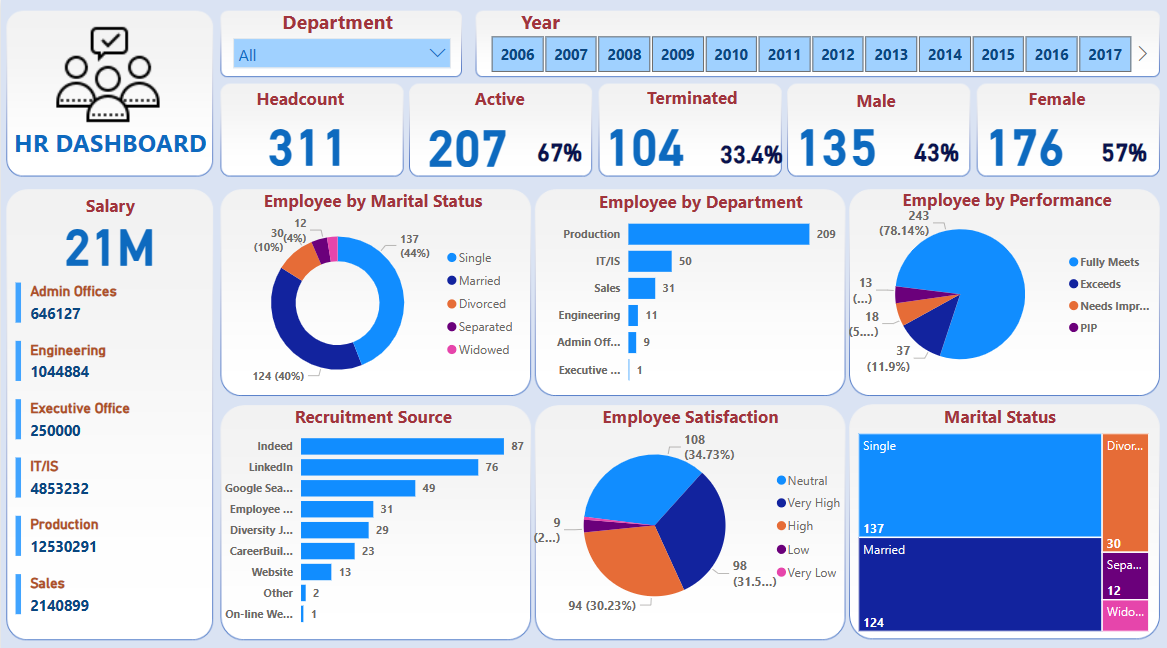

The page's visual inventory and layout, read from the dashboard file:
{"tool":"powerbi","page":{"name":"Page 1","canvas":[1280,720],"ordinal":0},"visuals":[{"type":"textbox","box":[0,134.3,240,64.3],"z":0},{"type":"textbox","box":[0,208,240,48],"z":1000},{"type":"textbox","box":[240,202.9,335.7,47.1],"z":2000},{"type":"textbox","box":[591.4,204.3,352.9,47.1],"z":3000},{"type":"textbox","box":[928.6,201.4,351.4,47.1],"z":4000},{"type":"textbox","box":[288.6,440,240,47.1],"z":5000},{"type":"textbox","box":[588.6,440,337.1,47.1],"z":6000},{"type":"textbox","box":[928.6,440,335.7,47.1],"z":7000},{"type":"textbox","box":[208.6,91.4,240,48.6],"z":8000},{"type":"textbox","box":[428.6,91.4,238.6,48.6],"z":9000},{"type":"textbox","box":[638.6,90,240,48.6],"z":10000},{"type":"textbox","box":[840,92.9,241.4,48.6],"z":11000},{"type":"textbox","box":[1038.6,91.4,241.4,48.6],"z":12000},{"type":"textbox","box":[265.6,4.4,207.8,47.8],"z":13000},{"type":"textbox","box":[495.6,4.4,192.2,47.8],"z":14000},{"type":"image","box":[11.1,16.7,216.7,135.6],"z":15000},{"type":"slicer","fields":{"Values":["HRData.Department"]},"box":[244.4,33.3,258.9,51.1],"z":16000},{"type":"slicer","fields":{"Values":["HRData.HiringDate.Variation.Date Hierarchy.Year"]},"box":[512.9,34.3,751.4,52.9],"z":17000},{"type":"donutChart","fields":{"Y":["CountNonNull(HRData.EmployeeID)"],"Category":["HRData.MaritalStatus"]},"box":[244.3,220,331.4,228.6],"z":18000},{"type":"clusteredBarChart","fields":{"Y":["CountNonNull(HRData.EmployeeID)"],"Category":["HRData.Department"]},"box":[591.4,221.4,335.7,214.3],"z":19000},{"type":"clusteredBarChart","fields":{"Y":["CountNonNull(HRData.EmployeeID)"],"Category":["HRData.RecruitmentSource"]},"box":[228.6,460,351.4,238.6],"z":20000},{"type":"card","fields":{"Values":["CountNonNull(HRData.EmployeeID)"]},"box":[244.7,105.3,183.9,102.3],"z":21000},{"type":"card","fields":{"Values":["Sum(HRData.Salary)"]},"box":[48.9,213.6,139.4,103.8],"z":22000},{"type":"multiRowCard","fields":{"Values":["HRData.Department","Sum(HRData.Salary)"]},"box":[11.4,305.7,222.9,402.9],"z":23000},{"type":"pieChart","fields":{"Y":["CountNonNull(HRData.EmployeeID)"],"Category":["HRData.PerformanceScore"]},"box":[928.6,214.3,351.4,220],"z":24000},{"type":"pieChart","fields":{"Y":["CountNonNull(HRData.EmployeeID)"],"Category":["HRData.SatisfactionIndex"]},"box":[580,460,355.7,235.7],"z":25000},{"type":"treemap","fields":{"Group":["HRData.MaritalStatus"],"Values":["CountNonNull(HRData.EmployeeID)"]},"box":[935.7,471.4,328.6,227.1],"z":26000},{"type":"card","fields":{"Values":["ValueMeasure.Active"]},"box":[447.1,105.7,130,102.9],"z":27000},{"type":"card","fields":{"Values":["ValueMeasure.Active%"]},"box":[547.3,115.7,130.5,103.8],"z":28000},{"type":"card","fields":{"Values":["ValueMeasure.Terminated"]},"box":[640.7,103.8,130.5,103.8],"z":29000},{"type":"card","fields":{"Values":["ValueMeasure.Terminated%"]},"box":[757.9,117.2,130.5,103.8],"z":30000},{"type":"card","fields":{"Values":["ValueMeasure.Male"]},"box":[851.4,103.8,130.5,103.8],"z":31000},{"type":"card","fields":{"Values":["ValueMeasure.Male%"]},"box":[961.1,115.7,130.5,103.8],"z":32000},{"type":"card","fields":{"Values":["ValueMeasure.Female"]},"box":[1057.5,103.8,130.5,103.8],"z":33000},{"type":"card","fields":{"Values":["ValueMeasure.Female%"]},"box":[1186.6,115.7,92,103.8],"z":34000}]}

Visuals, with their boxes in screenshot pixels (x1, y1, x2, y2), scaled from the page's 1280x720 canvas onto the 1167x648 screenshot:
textbox: <box>0,121,219,179</box>
textbox: <box>0,187,219,230</box>
textbox: <box>219,183,525,225</box>
textbox: <box>539,184,861,226</box>
textbox: <box>847,181,1166,224</box>
textbox: <box>263,396,482,438</box>
textbox: <box>537,396,844,438</box>
textbox: <box>847,396,1153,438</box>
textbox: <box>190,82,409,126</box>
textbox: <box>391,82,608,126</box>
textbox: <box>582,81,801,125</box>
textbox: <box>766,84,986,127</box>
textbox: <box>947,82,1166,126</box>
textbox: <box>242,4,432,47</box>
textbox: <box>452,4,627,47</box>
image: <box>10,15,208,137</box>
slicer - HRData.Department: <box>223,30,459,76</box>
slicer - HRData.HiringDate.Variation.Date Hierarchy.Year: <box>468,31,1153,78</box>
donutChart - CountNonNull(HRData.EmployeeID) x HRData.MaritalStatus: <box>223,198,525,404</box>
clusteredBarChart - CountNonNull(HRData.EmployeeID) x HRData.Department: <box>539,199,845,392</box>
clusteredBarChart - CountNonNull(HRData.EmployeeID) x HRData.RecruitmentSource: <box>208,414,529,629</box>
card - CountNonNull(HRData.EmployeeID): <box>223,95,391,187</box>
card - Sum(HRData.Salary): <box>45,192,172,286</box>
multiRowCard - HRData.Department x Sum(HRData.Salary): <box>10,275,214,638</box>
pieChart - CountNonNull(HRData.EmployeeID) x HRData.PerformanceScore: <box>847,193,1166,391</box>
pieChart - CountNonNull(HRData.EmployeeID) x HRData.SatisfactionIndex: <box>529,414,853,626</box>
treemap - HRData.MaritalStatus x CountNonNull(HRData.EmployeeID): <box>853,424,1153,629</box>
card - ValueMeasure.Active: <box>408,95,526,188</box>
card - ValueMeasure.Active%: <box>499,104,618,198</box>
card - ValueMeasure.Terminated: <box>584,93,703,187</box>
card - ValueMeasure.Terminated%: <box>691,105,810,199</box>
card - ValueMeasure.Male: <box>776,93,895,187</box>
card - ValueMeasure.Male%: <box>876,104,995,198</box>
card - ValueMeasure.Female: <box>964,93,1083,187</box>
card - ValueMeasure.Female%: <box>1082,104,1166,198</box>
